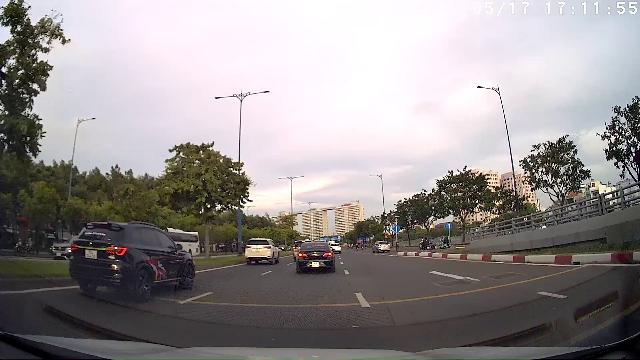301a-cac-xe-chi-duoc-di-thang: (394, 226, 401, 232), (446, 222, 452, 229)
